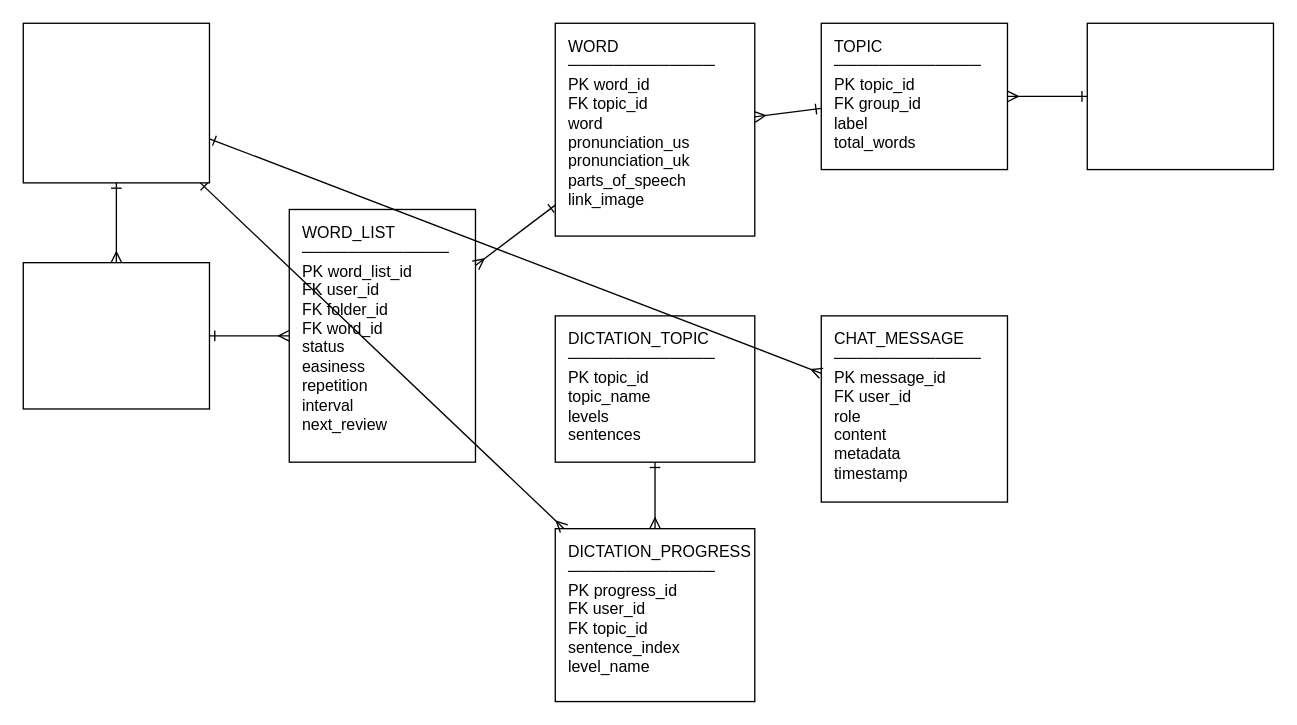
This 1297x725 diagram has some shape labels left out. The centre of each missing label's shape, as x and y in pixels:
FOLDER ───────────── PK folder_id FK user_id name word_count: the point at 115,335
GROUP ───────────── PK group_id label total_words image: the point at 1179,96
USER ───────────── PK user_id email user_name created_at updated_at: the point at 115,102
